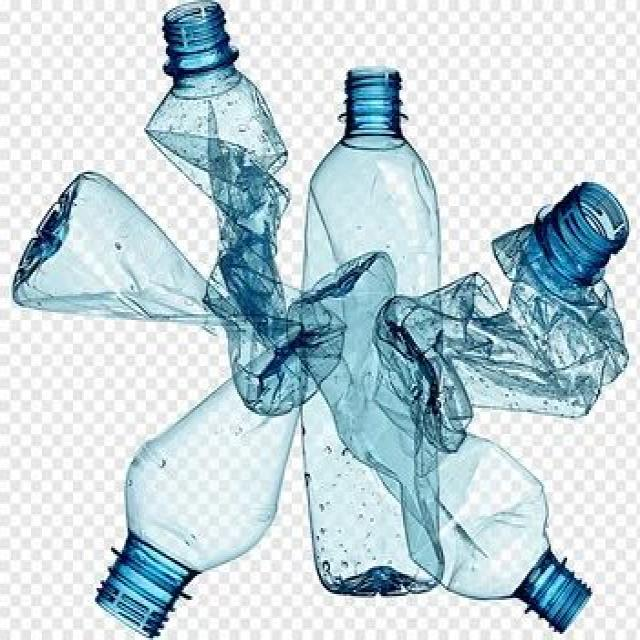blue: (143, 2, 342, 412), (295, 73, 441, 595), (371, 180, 631, 452), (96, 373, 299, 637), (438, 435, 593, 633)
